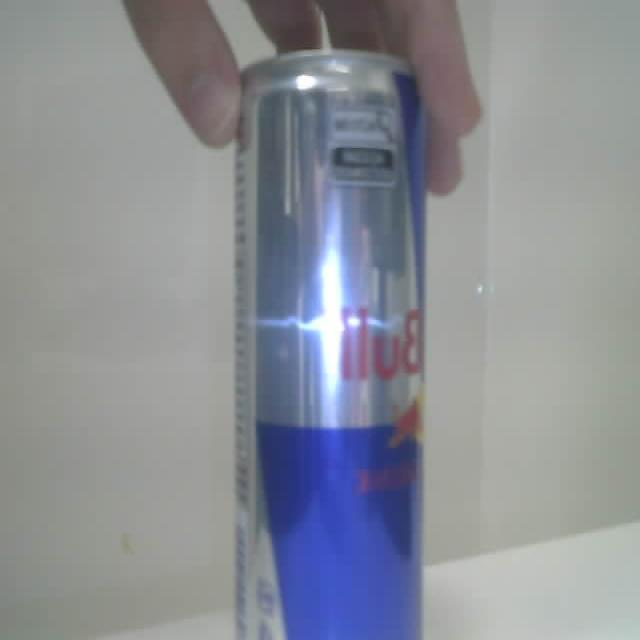redbull can: (236, 51, 424, 639)
